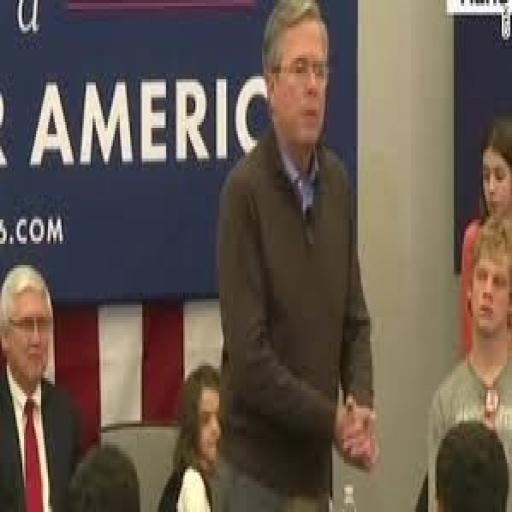clapping: (214, 0, 380, 509)
